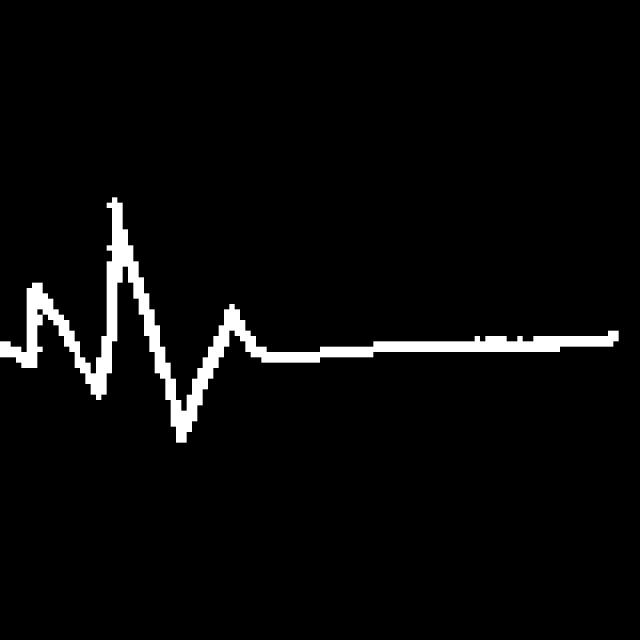resistor: (9, 187, 271, 460)
